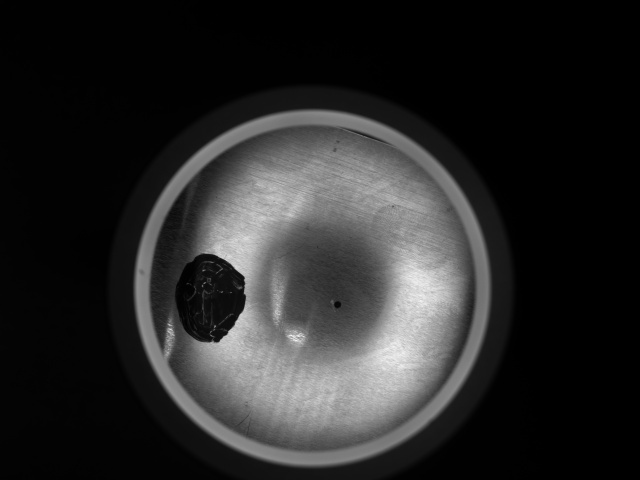zang_wu: (171, 250, 249, 345)
zhen_kong: (329, 298, 346, 312)
